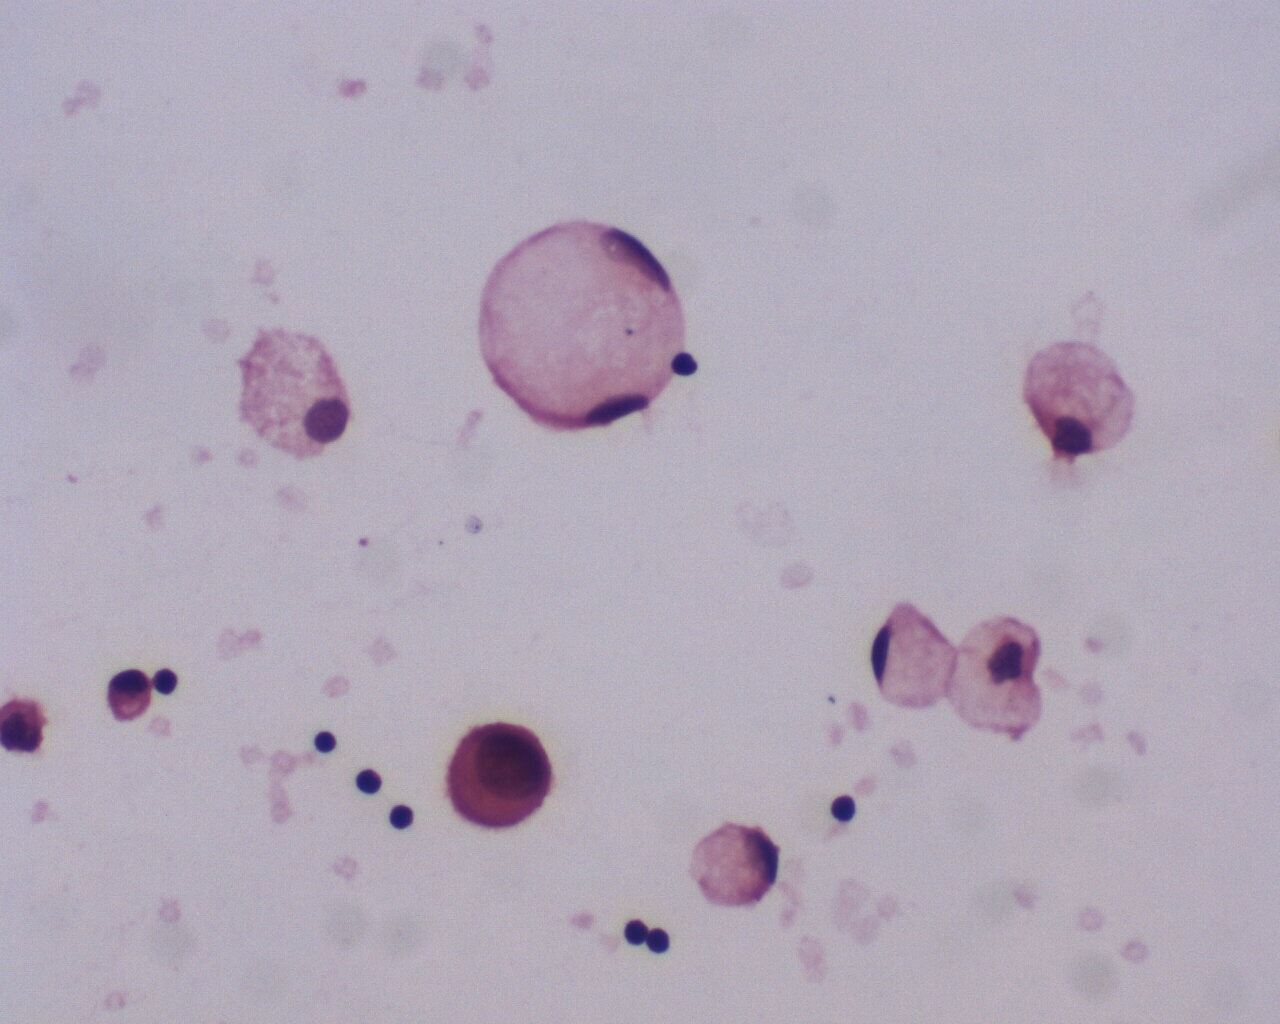ab: (437, 717, 564, 836)
histo: (475, 213, 686, 438), (1020, 332, 1145, 470), (866, 596, 960, 723), (693, 817, 785, 912)
lymph: (827, 787, 863, 832), (385, 795, 420, 837), (312, 727, 348, 760)
